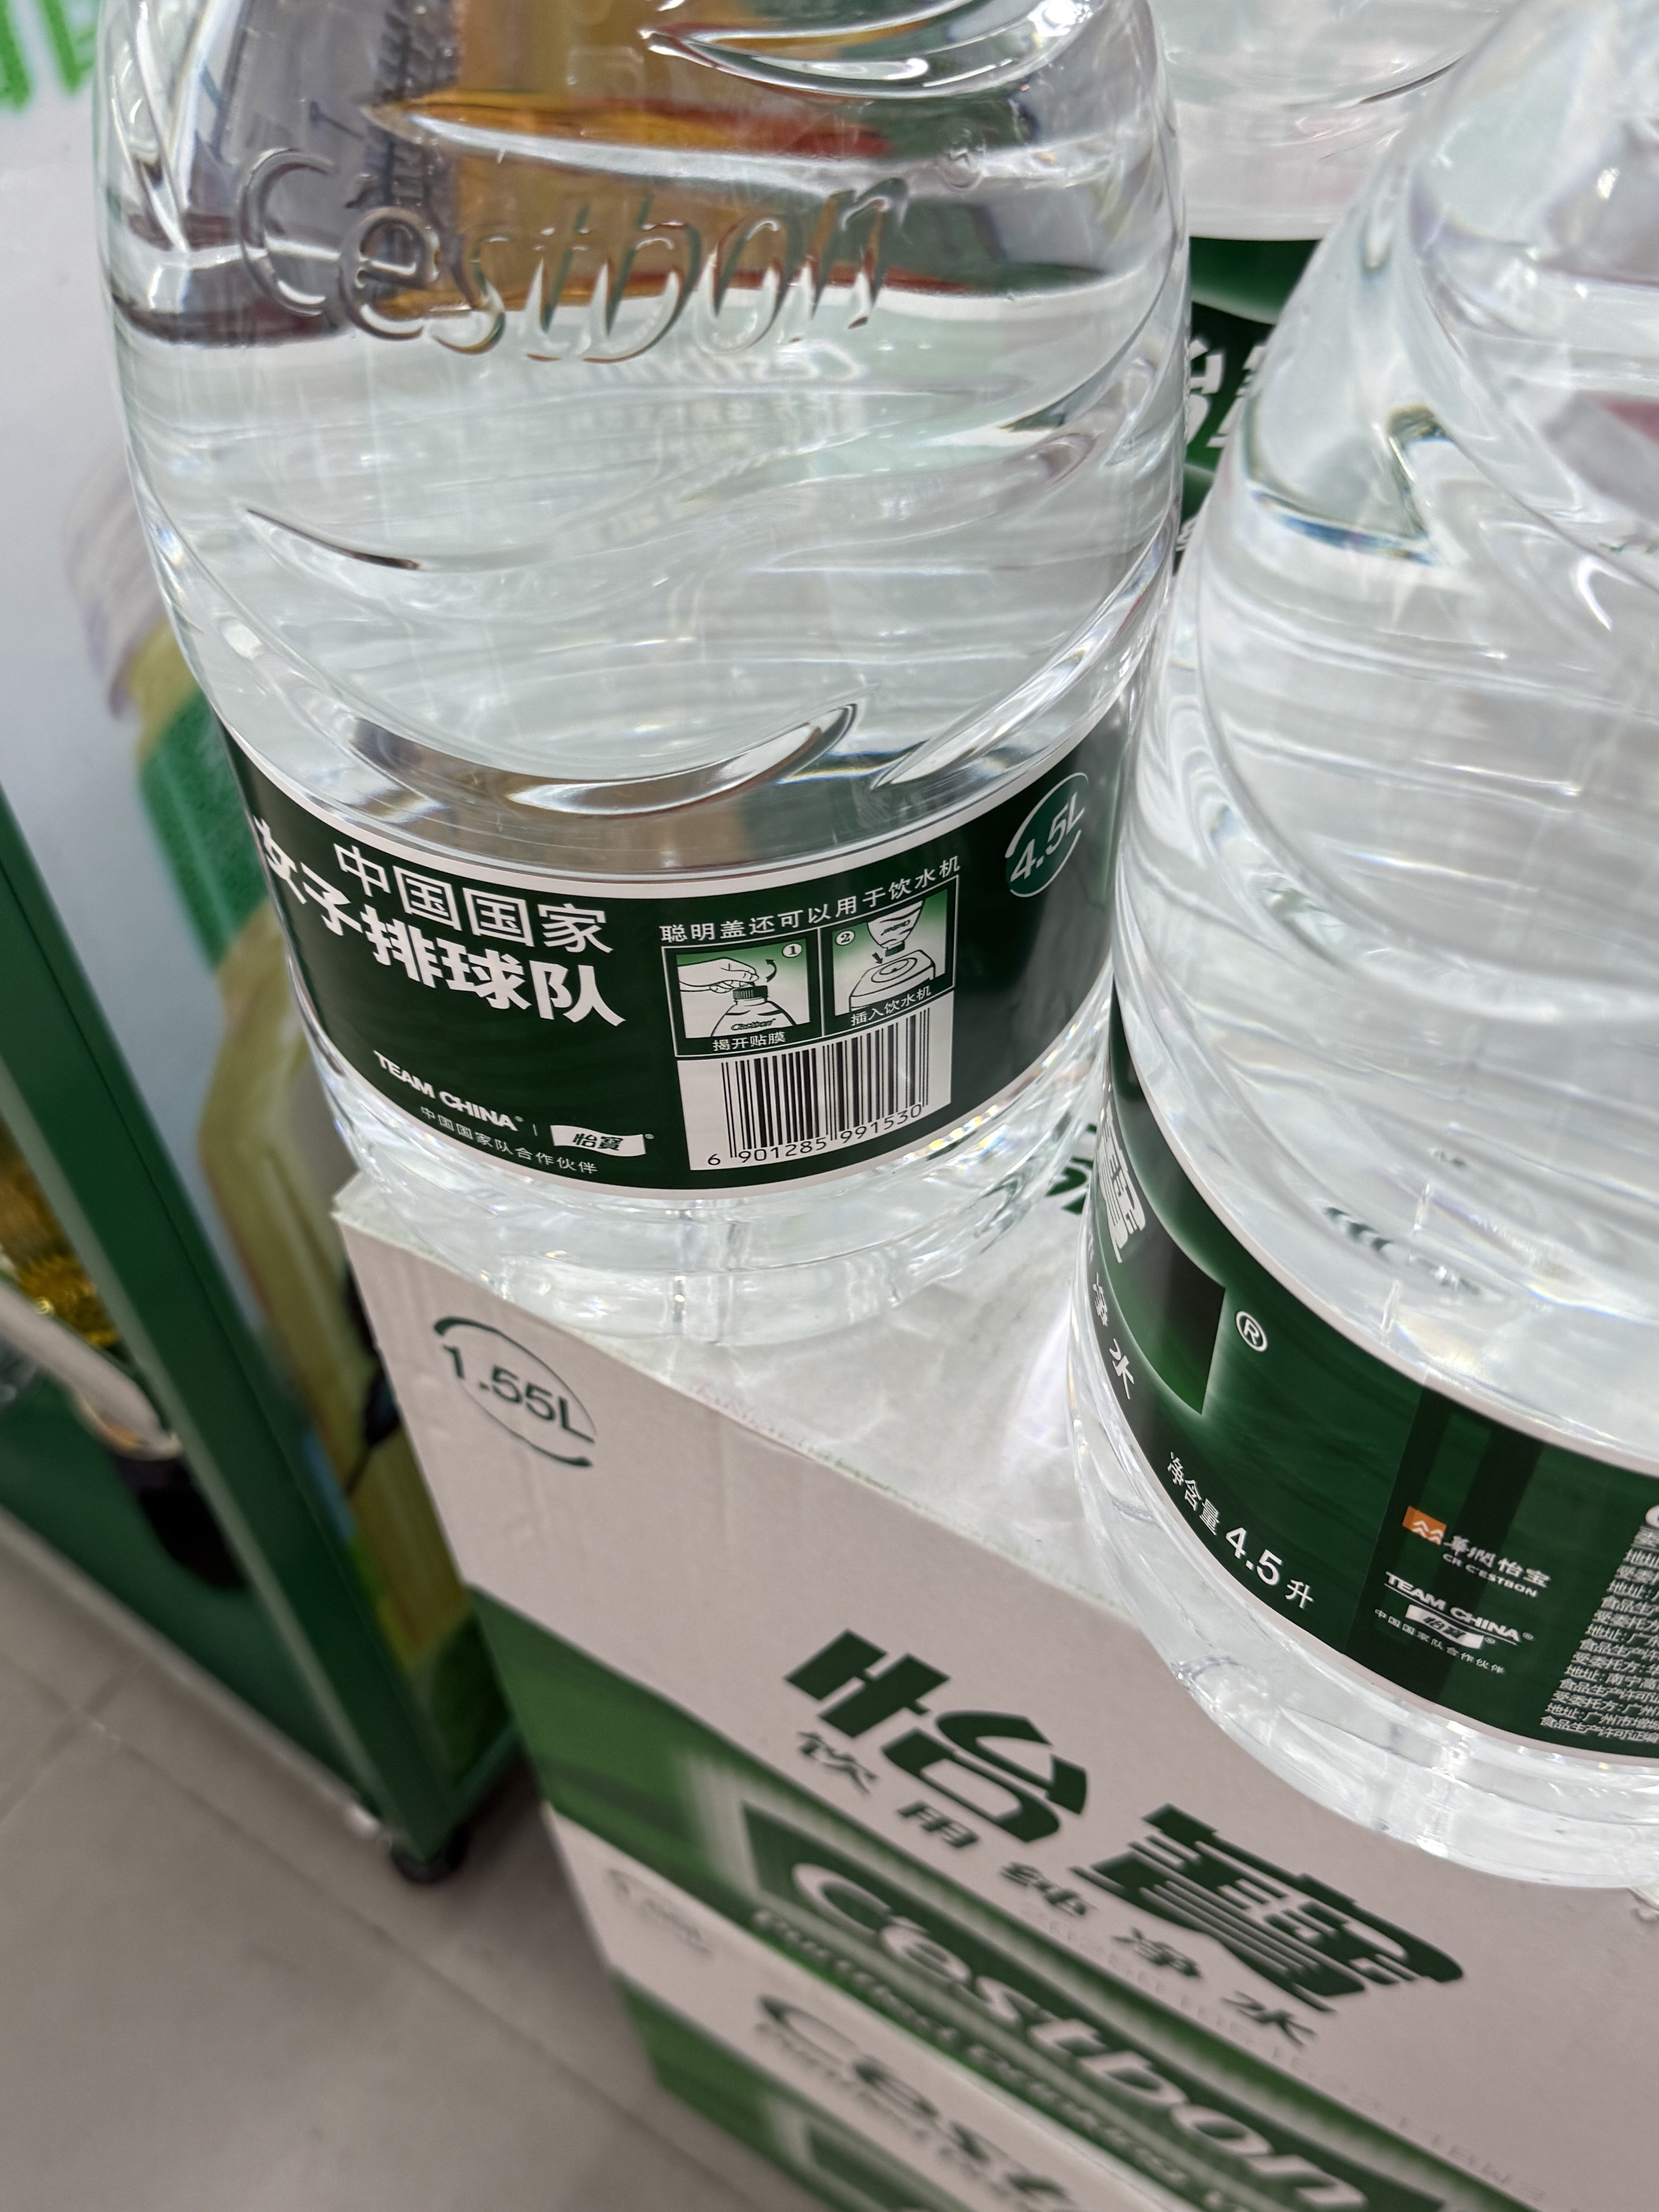bar: (716, 1007, 934, 1162)
